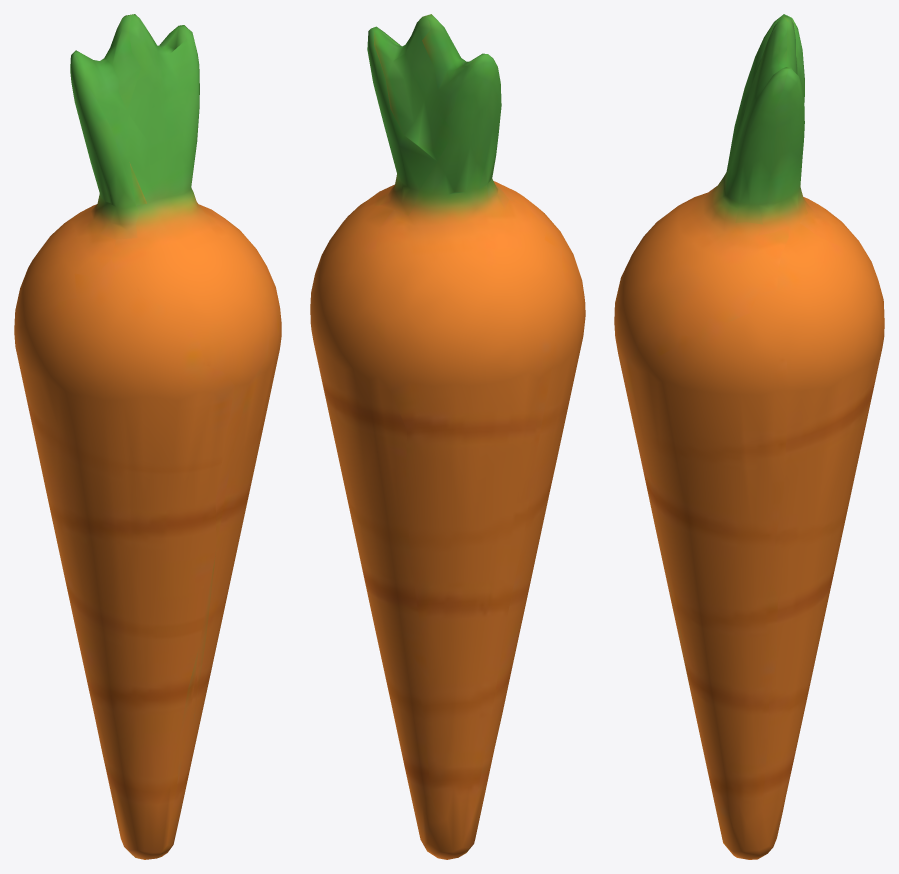
File: item.carrot.glb
3 renders of one model, left to right at view 1: azimuth 30°, elevation 25°; view 2: azimuth 150°, elevation 25°; view 3: azimuth 270°, elevation 25°, orthographic. The views are drawn at different scales.
Parts seen in each view (by area): view 1: carrot; view 2: carrot; view 3: carrot.
Boxes of the visible parts, x1,y1,x2,y2 form: carrot: [14, 14, 281, 859]; carrot: [310, 14, 585, 859]; carrot: [614, 14, 884, 859].
Bounding box in the file's own units: 0.2403 × 0.8229 × 0.2396.
Materials: 1 (1 with a texture image).
